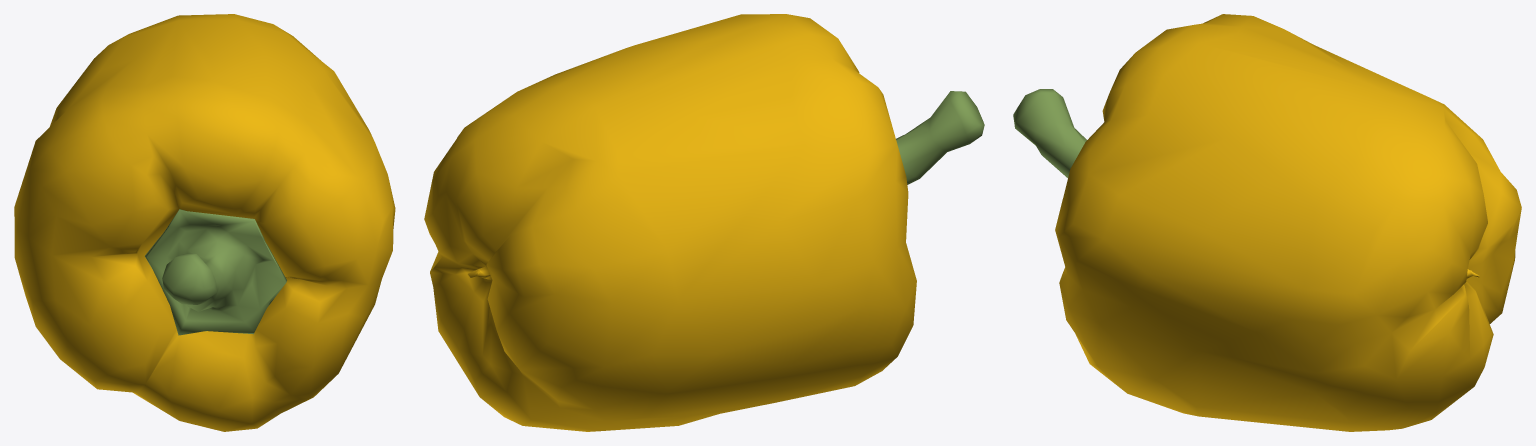
The model's file is Yellow.fbx.
3 views of the same model, side by side, from view 1: azimuth 30°, elevation 25°; view 2: azimuth 150°, elevation 25°; view 3: azimuth 270°, elevation 25° (orthographic). The views are drawn at different scales.
Visible parts, largest first — view 1: Yellow; view 2: Yellow; view 3: Yellow.
Boxes of the visible parts, x1,y1,x2,y2 form: Yellow: [14, 14, 395, 431]; Yellow: [424, 14, 984, 431]; Yellow: [1013, 14, 1521, 431].
Size of the model in its own units: 0.0759 by 0.066 by 0.0875.
